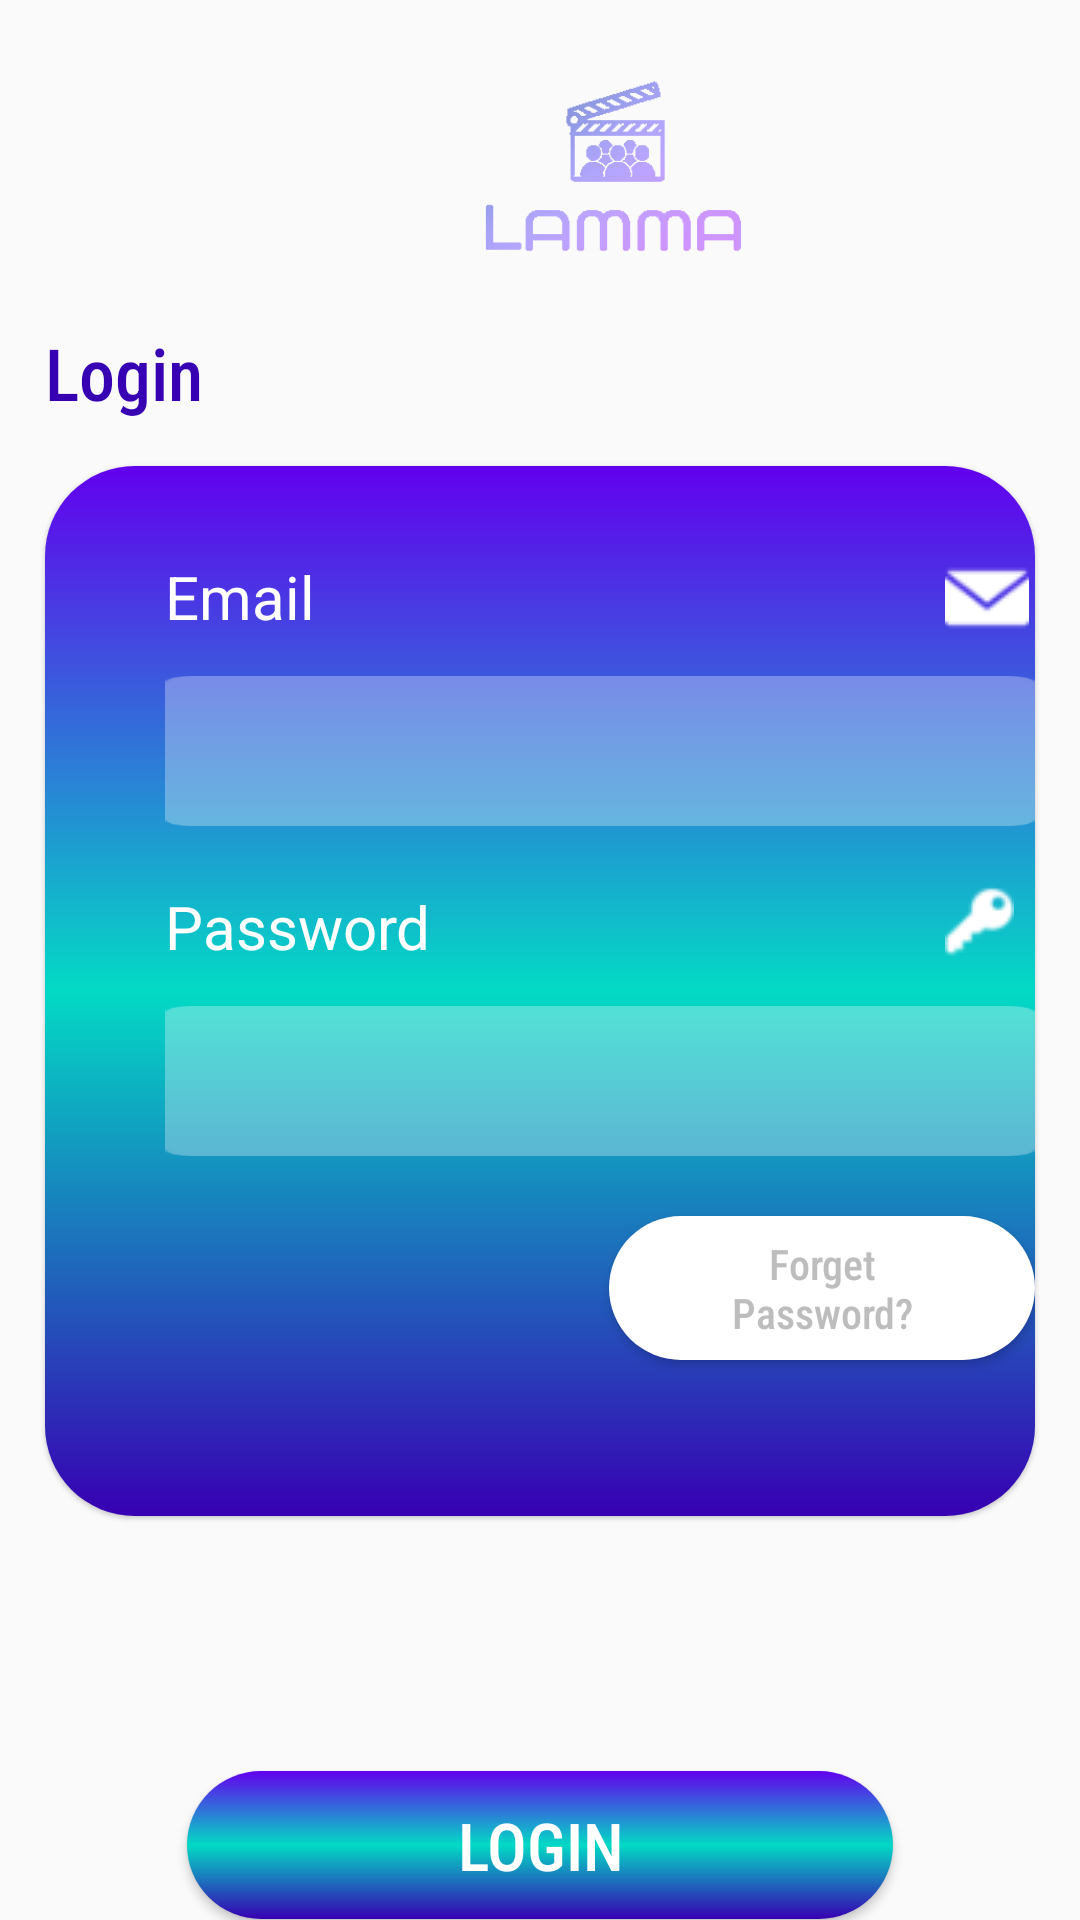

Screen size 1080 × 1920. Icon name, then its center in pixels as point (x, y):
emailicon: point (987, 598)
passicon: point (979, 923)
